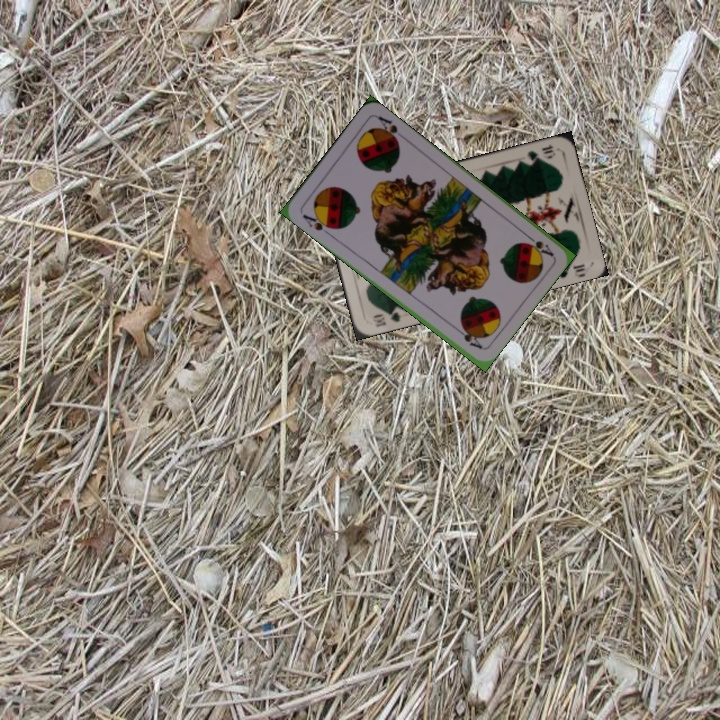G10: (370, 304, 406, 330), (523, 140, 558, 165)
SA: (521, 229, 556, 259), (299, 210, 336, 238)
